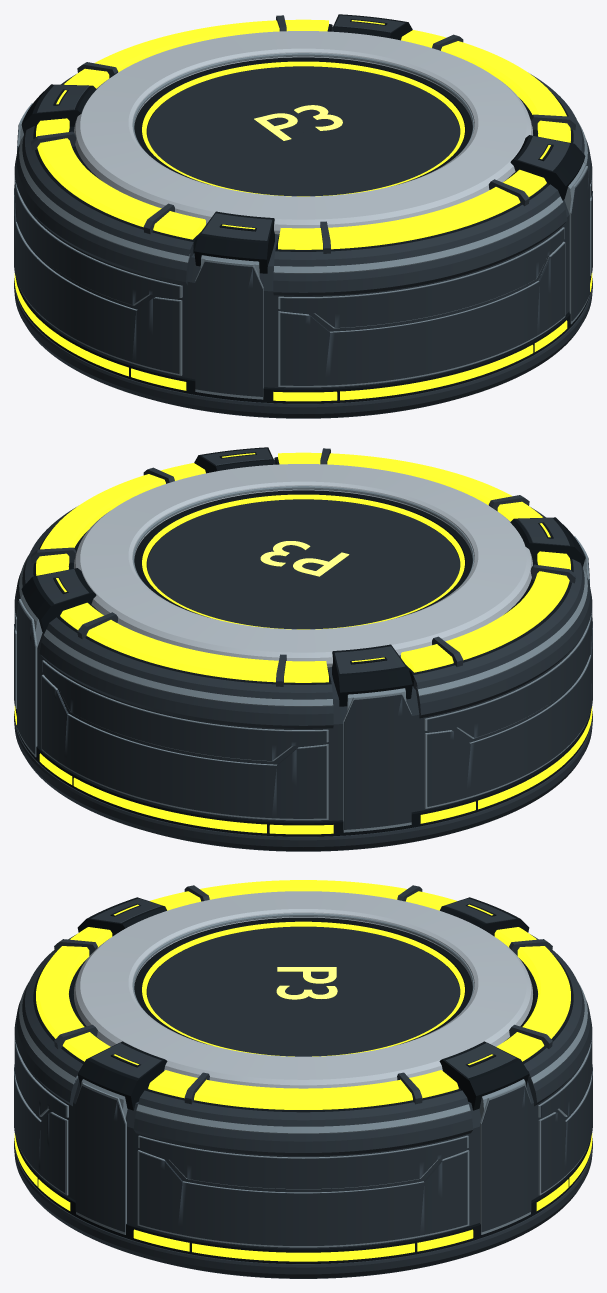
The model's file is Toppler.fbx.
The picture shows the model from 3 angles, top to bottom: view 1: azimuth 30°, elevation 25°; view 2: azimuth 150°, elevation 25°; view 3: azimuth 270°, elevation 25°; orthographic projection.
Visible parts, largest first — view 1: SM_Puck_Toppler_P3_HighDetail; view 2: SM_Puck_Toppler_P3_HighDetail; view 3: SM_Puck_Toppler_P3_HighDetail.
Boxes of the visible parts, <box> form: SM_Puck_Toppler_P3_HighDetail: <box>14,14,592,418</box>; SM_Puck_Toppler_P3_HighDetail: <box>14,447,592,851</box>; SM_Puck_Toppler_P3_HighDetail: <box>14,880,592,1278</box>.
Size of the model in its own units: 90.3 by 90.3 by 30.7.
